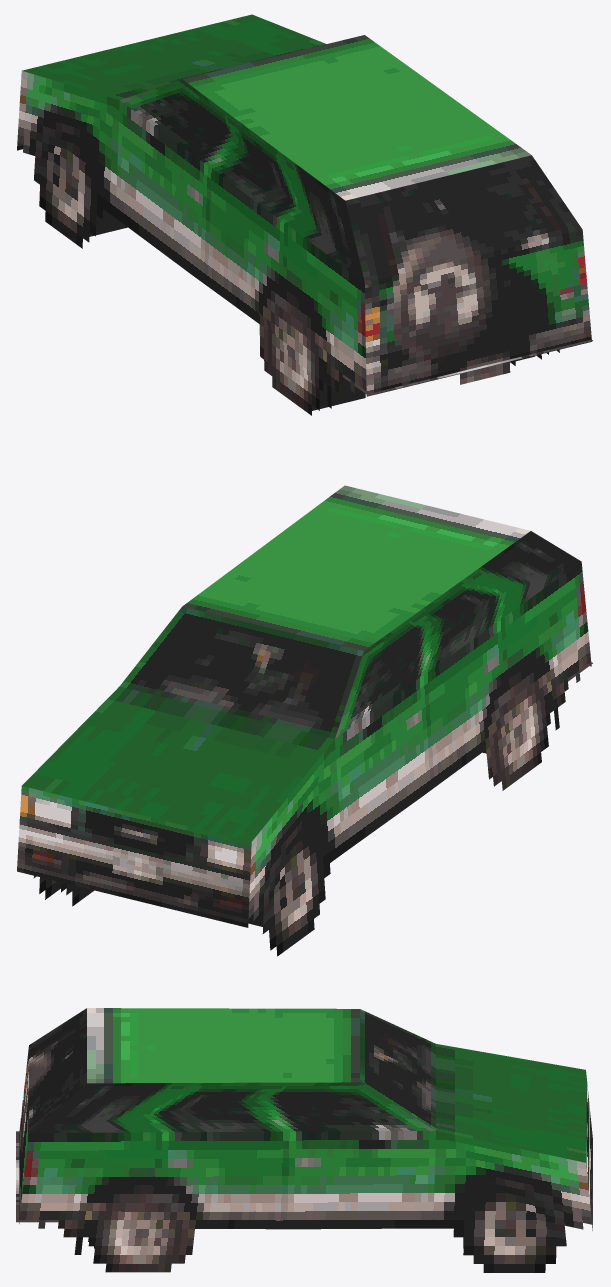
File: car-rodeo-plt1.glb
3 views of the same model, one above another, from view 1: azimuth 30°, elevation 25°; view 2: azimuth 150°, elevation 25°; view 3: azimuth 270°, elevation 25° (orthographic). The views are drawn at different scales.
Parts seen in each view (by area): view 1: car-rodeo-plt1; view 2: car-rodeo-plt1; view 3: car-rodeo-plt1.
Part boxes in pixels (x1,y1,x2,y2): car-rodeo-plt1: (17,14,592,415); car-rodeo-plt1: (17,485,592,956); car-rodeo-plt1: (16,1008,592,1272).
Size of the model in its own units: 1.73 by 1.55 by 4.55.
13 materials, 13 textured.
